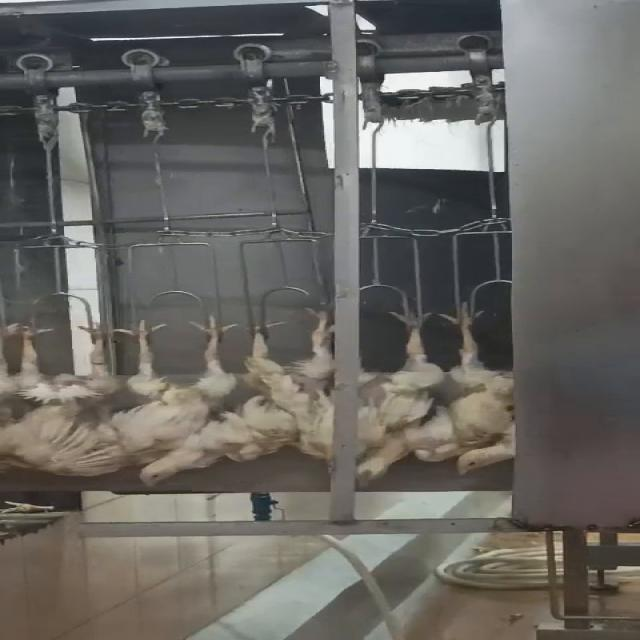chicken: (118, 310, 238, 493), (0, 317, 120, 482), (236, 304, 336, 470), (443, 298, 526, 478), (356, 297, 430, 493)
